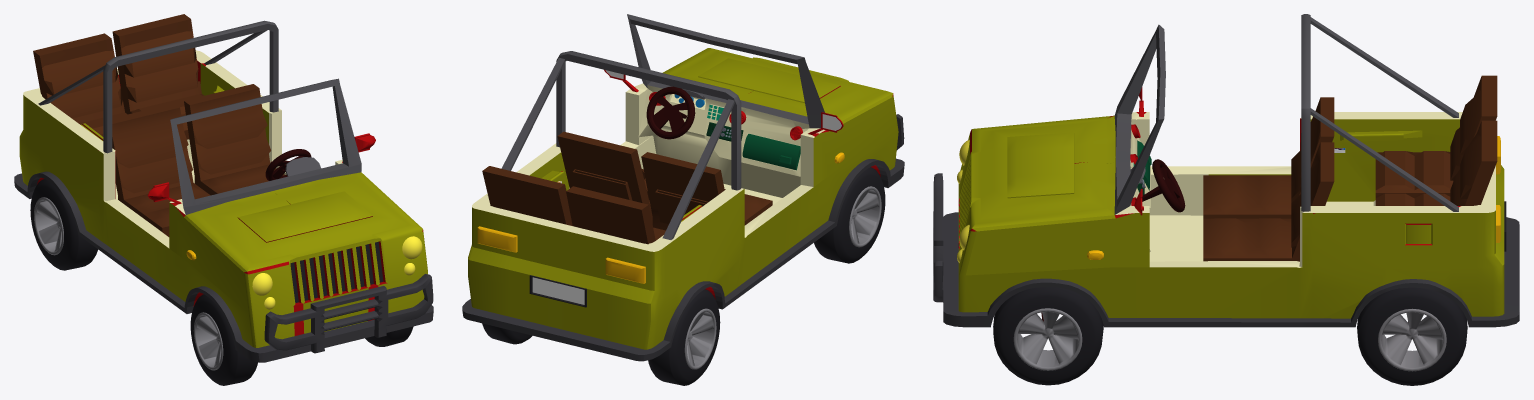
The model's file is araba.fbx.
3 renders of one model, left to right at view 1: azimuth 30°, elevation 25°; view 2: azimuth 150°, elevation 25°; view 3: azimuth 270°, elevation 25°, orthographic. The views are drawn at different scales.
Parts seen in each view (by area): view 1: car, car.001, car teker2, car teker3, car teker4; view 2: car, car.001, car teker2, car teker3, car teker1; view 3: car.001, car, car teker1, car teker4.
Part boxes in pixels (x1=…): car: x1=14, y1=14, x2=433, y2=362; car.001: x1=19, y1=63, x2=427, y2=347; car teker2: x1=30, y1=179, x2=97, y2=270; car teker3: x1=190, y1=294, x2=257, y2=385; car teker4: x1=365, y1=326, x2=413, y2=346; car: x1=462, y1=14, x2=904, y2=361; car.001: x1=468, y1=48, x2=898, y2=349; car teker2: x1=648, y1=289, x2=720, y2=385; car teker3: x1=814, y1=167, x2=885, y2=263; car teker1: x1=482, y1=323, x2=532, y2=344; car.001: x1=958, y1=115, x2=1504, y2=318; car: x1=933, y1=14, x2=1519, y2=327; car teker1: x1=1357, y1=287, x2=1467, y2=385; car teker4: x1=993, y1=287, x2=1103, y2=385.
Size of the model in its own units: 355 by 358 by 681.
